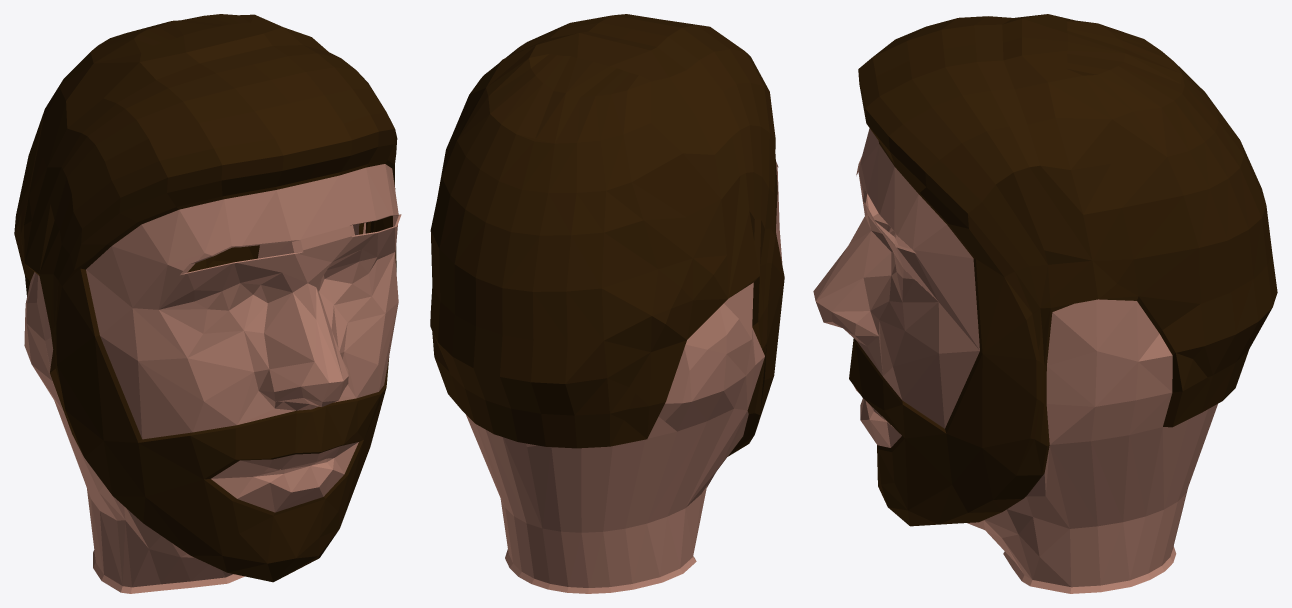
The picture shows the model from 3 angles, left to right: view 1: azimuth 30°, elevation 25°; view 2: azimuth 150°, elevation 25°; view 3: azimuth 270°, elevation 25°; orthographic projection. The views are drawn at different scales.
Visible parts, largest first — view 1: Sphere; view 2: Sphere; view 3: Sphere.
Boxes of the visible parts, x1=… form: Sphere: x1=14, y1=14, x2=401, y2=593; Sphere: x1=430, y1=14, x2=784, y2=593; Sphere: x1=813, y1=14, x2=1277, y2=593.
Bounding box in the file's own units: 0.1518 × 0.234 × 0.1894.
